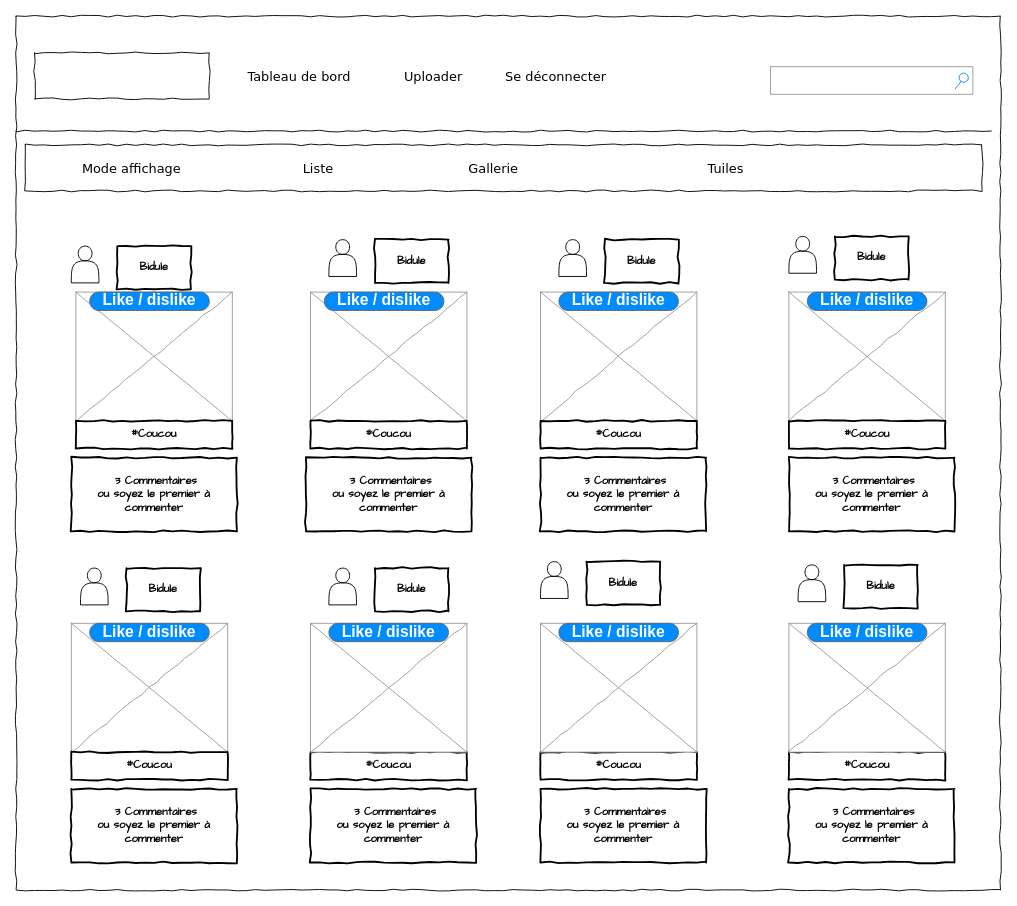
The diagram is 1017 pixels wide and 906 high, and some of its shapes have lost their labels. Each missing label, with the box of its shape:
LOGO: (34, 52, 209, 99)
Search: (770, 66, 973, 94)
